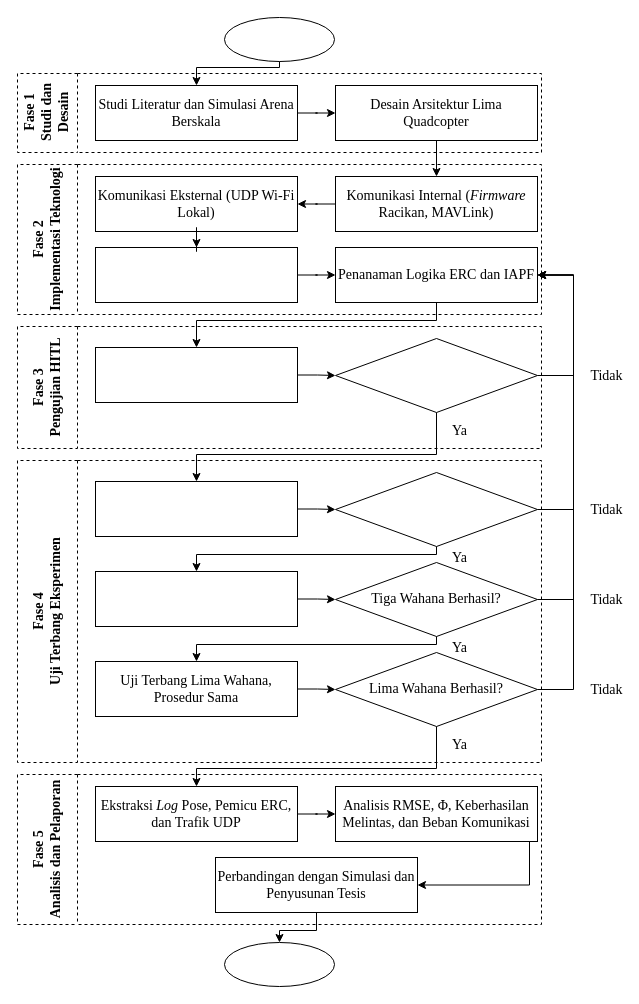
The diagram is 639 pixels wide and 1004 high, and some of its shapes have lost their labels. The shapes that lost their labels are listed below. From the top down, each one's centre as x and y in pixels, then its label:
the point at 279,39: Mulai
the point at 196,274: Lokalisasi Kamera Atas dan Uji Banding Sensor
the point at 196,374: Uji HITL pada Companion Computer
the point at 436,375: CPU dan Latensi Aman?
the point at 196,508: Uji Terbang Tunggal (EKF, Tautan, PID)
the point at 436,509: Wahana Tunggal Stabil?
the point at 196,598: Uji Terbang Tiga Wahana, Mengekor Celah 90 cm
the point at 279,964: Selesai
